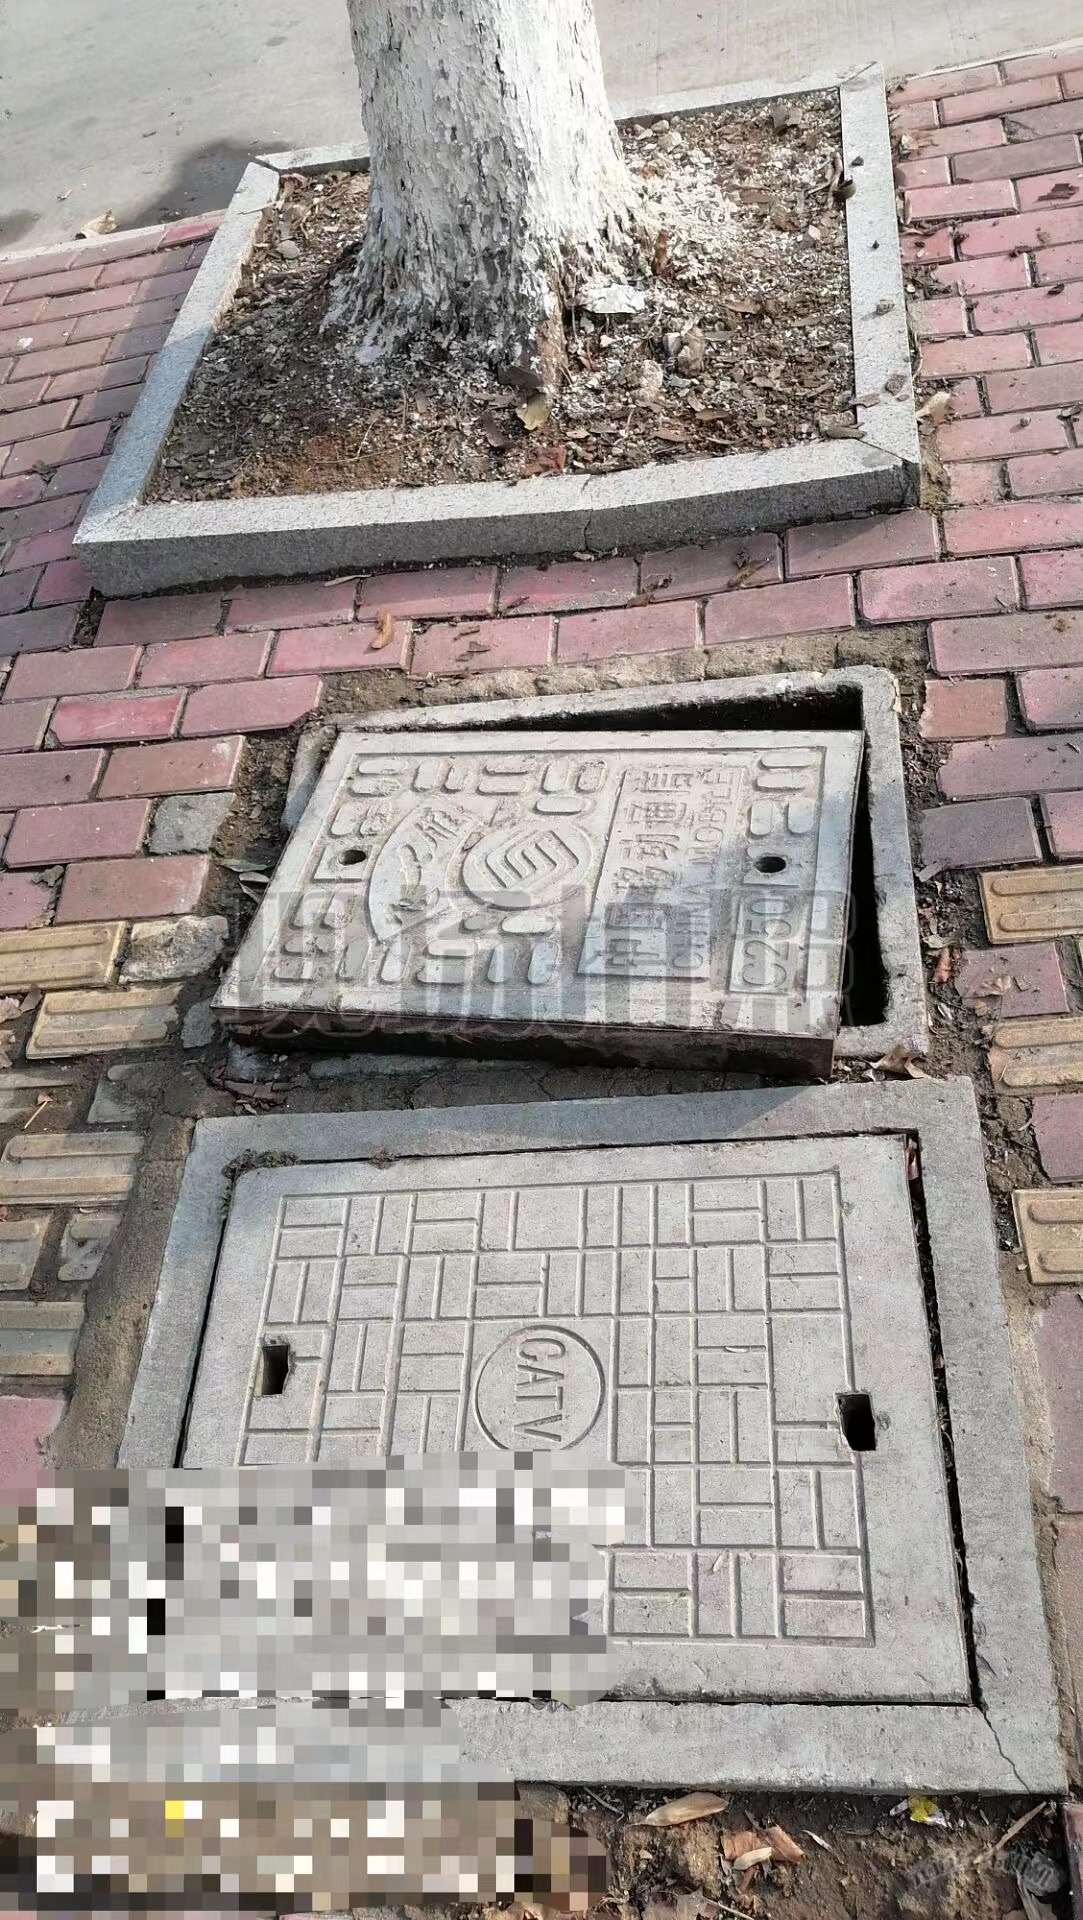well: (65, 661, 1032, 1804), (187, 673, 941, 1071)
